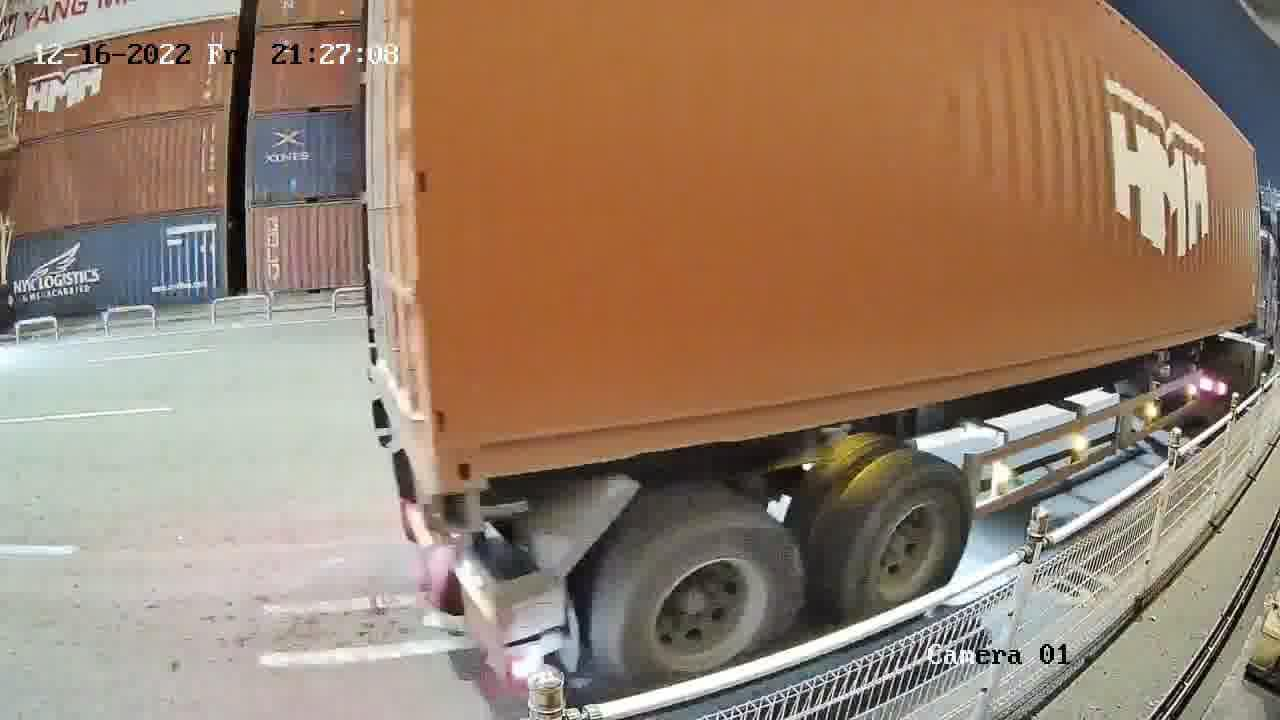Cone: (436, 484, 484, 534)
Hole_L: (431, 399, 537, 491)
Tire: (618, 521, 804, 686), (844, 466, 970, 616)
